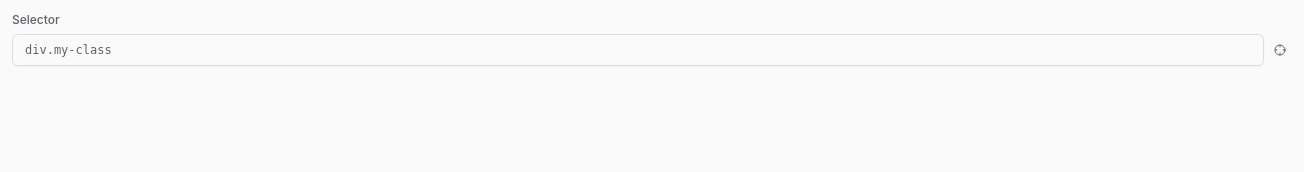
Scenario: SelectorField › clears previous alternatives when a new pick starts
This screenshot has width=1304, height=172.
Click the button named "Pick element from page" at (1280, 50), box left=1268, top=38, right=1292, bottom=62
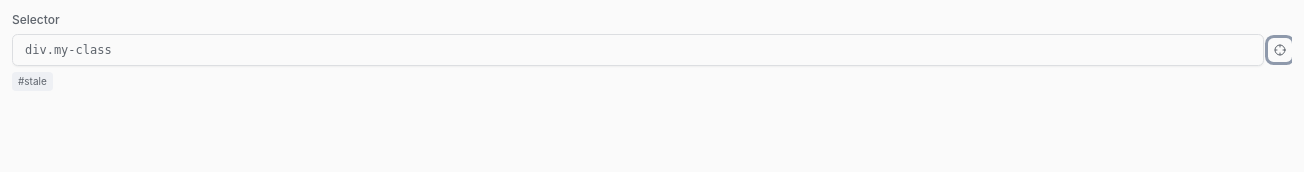
Click the button named "Pick element from page" at (1280, 50), box left=1268, top=38, right=1292, bottom=62
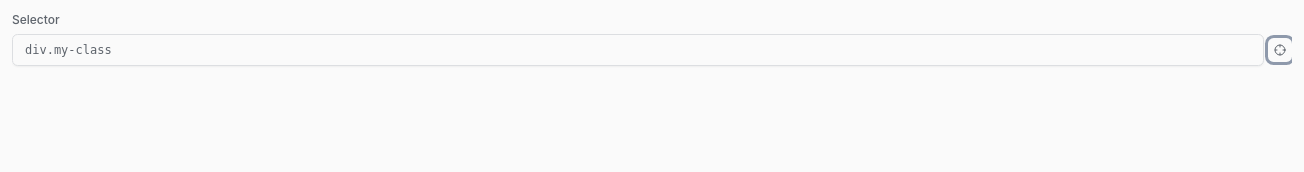
Expected: the button "#stale" is gone
